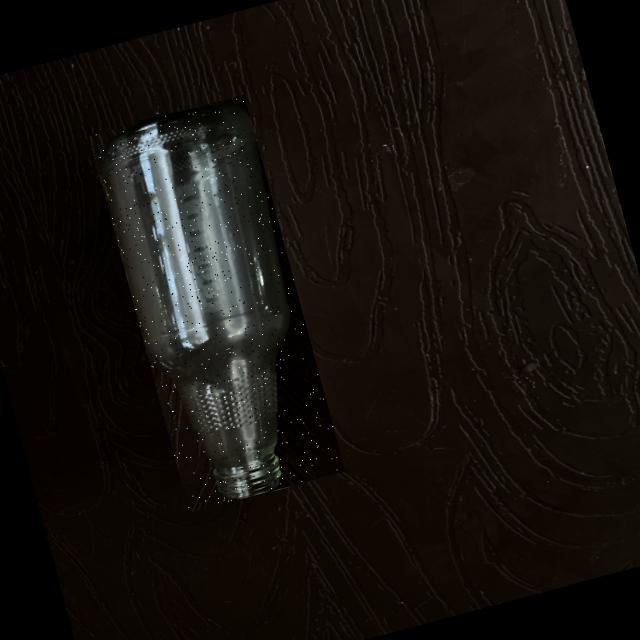Glass_Bottle: (102, 105, 288, 498)
